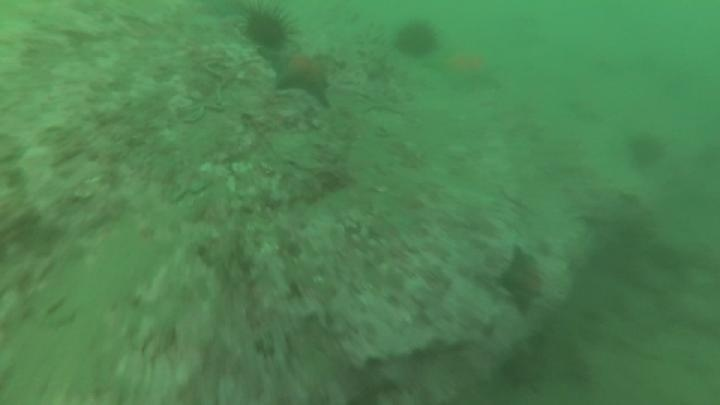echinus: (239, 3, 298, 52), (392, 17, 442, 61), (625, 130, 668, 171)
starfish: (262, 43, 339, 108), (495, 243, 552, 316), (423, 45, 505, 95)
